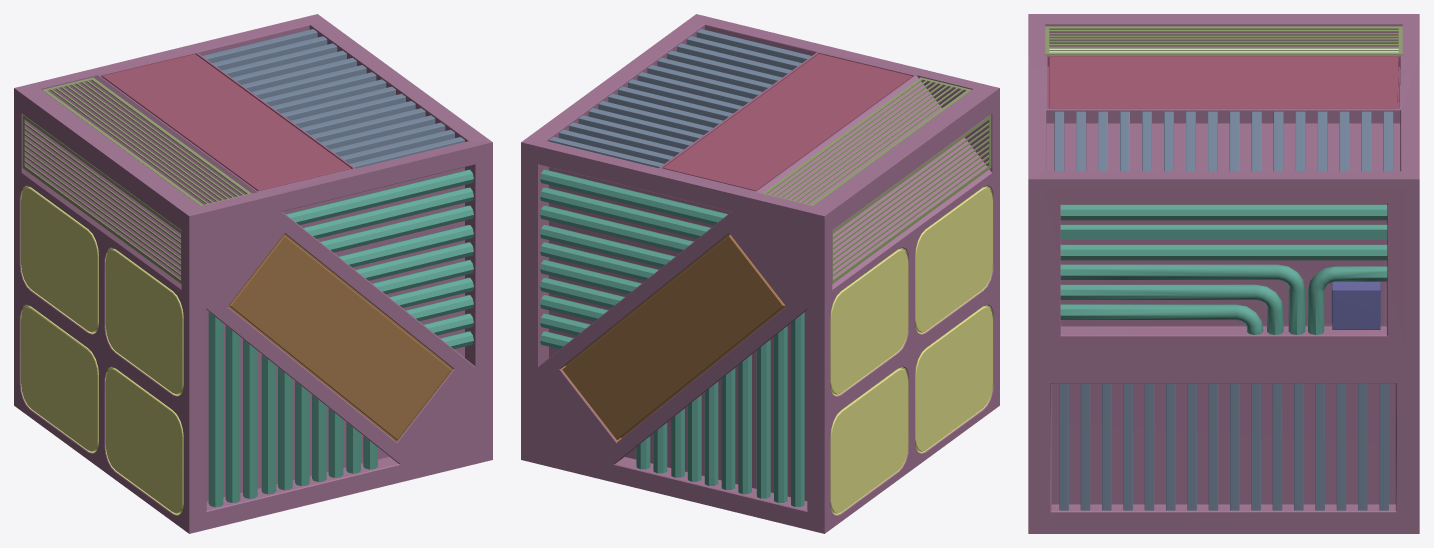
The model's file is obstacleTemp.fbx.
The picture shows the model from 3 angles, left to right: view 1: azimuth 30°, elevation 25°; view 2: azimuth 150°, elevation 25°; view 3: azimuth 270°, elevation 25°; orthographic projection. The views are drawn at different scales.
Parts seen in each view (by area): view 1: obstacle; view 2: obstacle; view 3: obstacle.
Part boxes in pixels (bbox=[...]): obstacle: bbox=[14, 14, 492, 533]; obstacle: bbox=[521, 14, 999, 533]; obstacle: bbox=[1028, 14, 1419, 533].
Bounding box in the file's own units: 2 × 2 × 2.
